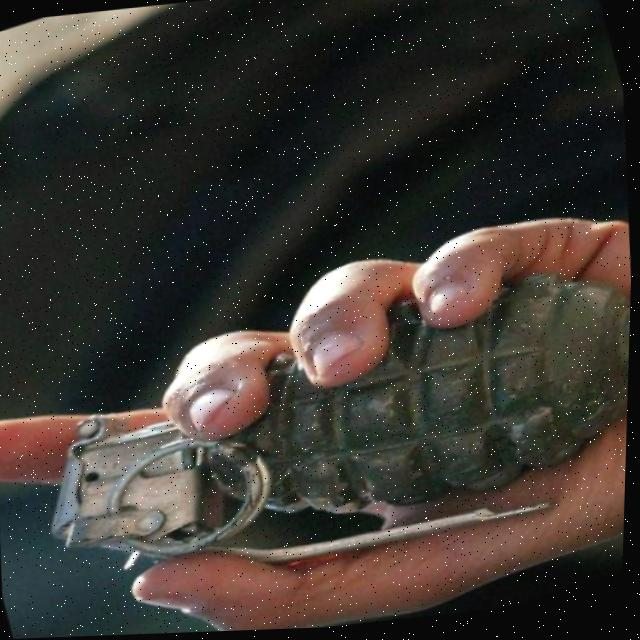grenade: (5, 225, 634, 639)
